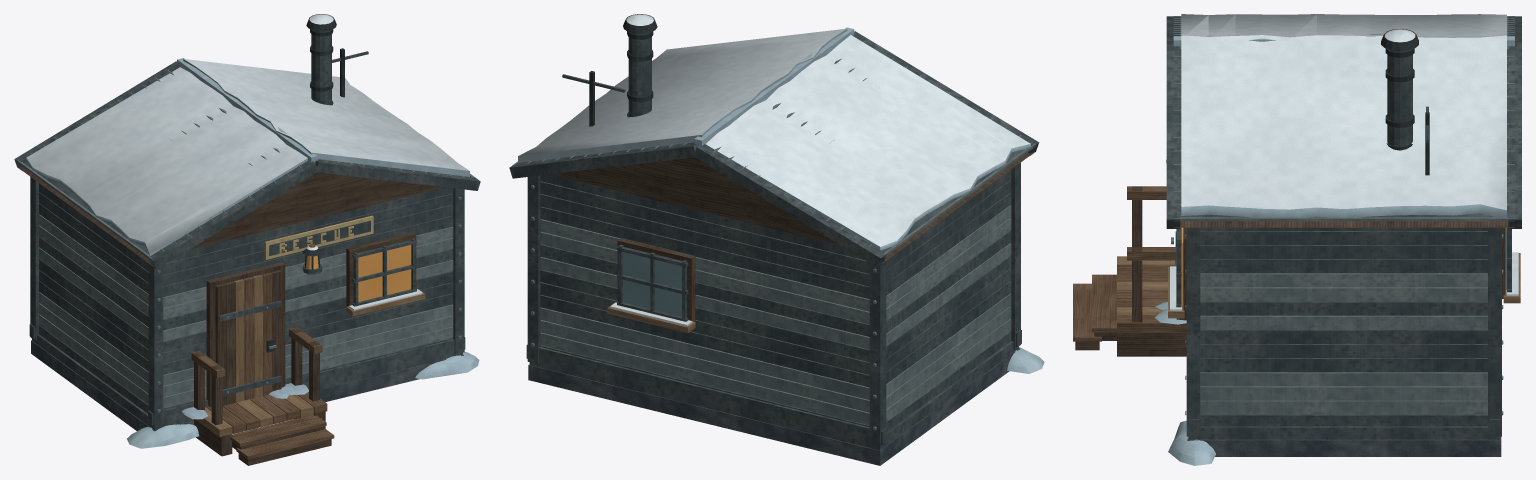
Rendered from 01_Base_Camp_HQ.obj.
3 views of the same model, side by side, from view 1: azimuth 30°, elevation 25°; view 2: azimuth 150°, elevation 25°; view 3: azimuth 270°, elevation 25° (orthographic). The views are drawn at different scales.
Parts seen in each view (by area): view 1: 01_Base_Camp_HQ; view 2: 01_Base_Camp_HQ; view 3: 01_Base_Camp_HQ.
Part boxes in pixels (box(x1,y1,x2,y2)): 01_Base_Camp_HQ: box(14, 14, 480, 465); 01_Base_Camp_HQ: box(509, 14, 1044, 465); 01_Base_Camp_HQ: box(1073, 14, 1521, 465).
Bounding box in the file's own units: 4.88 × 4.09 × 4.26.
Materials: 13 (13 with a texture image).
